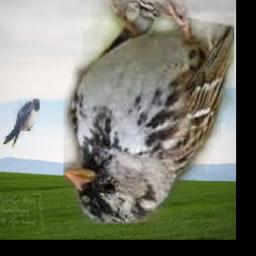Sparrow: (64, 0, 234, 223)
Swallow: (4, 99, 41, 147)
